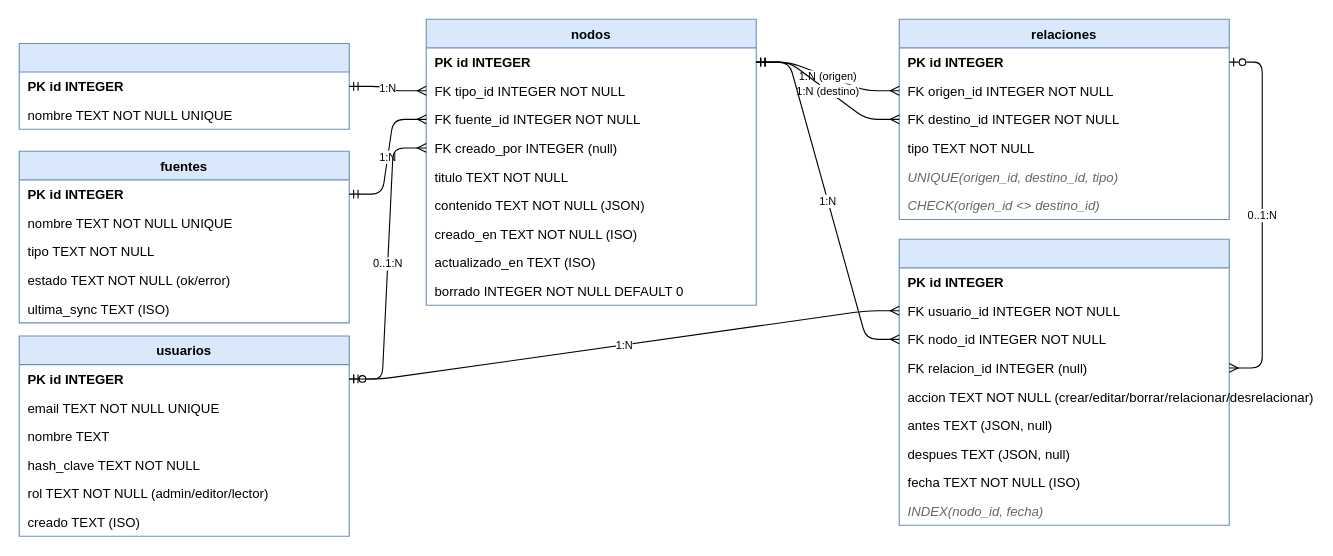
The diagram is 1333 pixels wide and 556 high, and some of its shapes have lost their labels. Each missing label, with the box of its shape:
historial: (898, 238, 1229, 525)
tipos_nodo: (18, 42, 349, 129)
